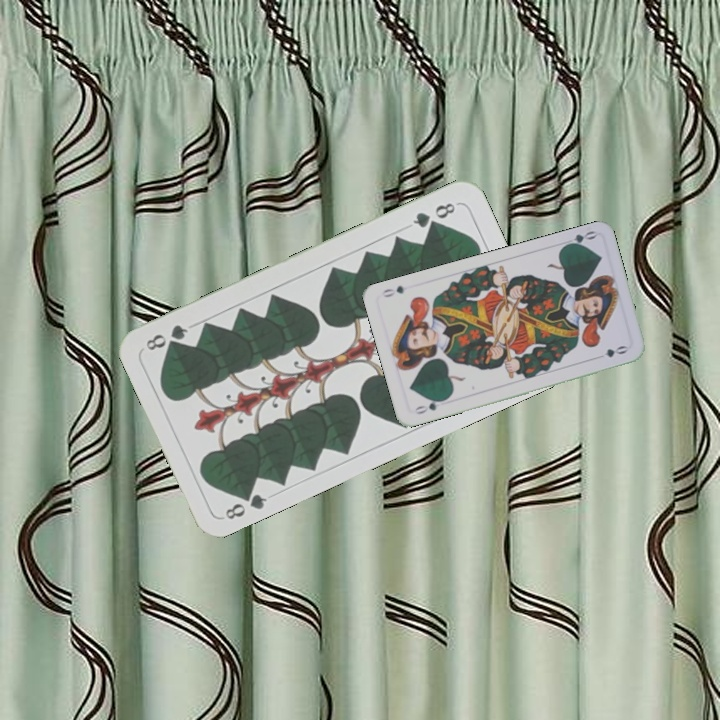G8: (221, 485, 270, 523), (409, 198, 458, 231)
GO: (559, 226, 598, 250), (409, 395, 448, 417)
